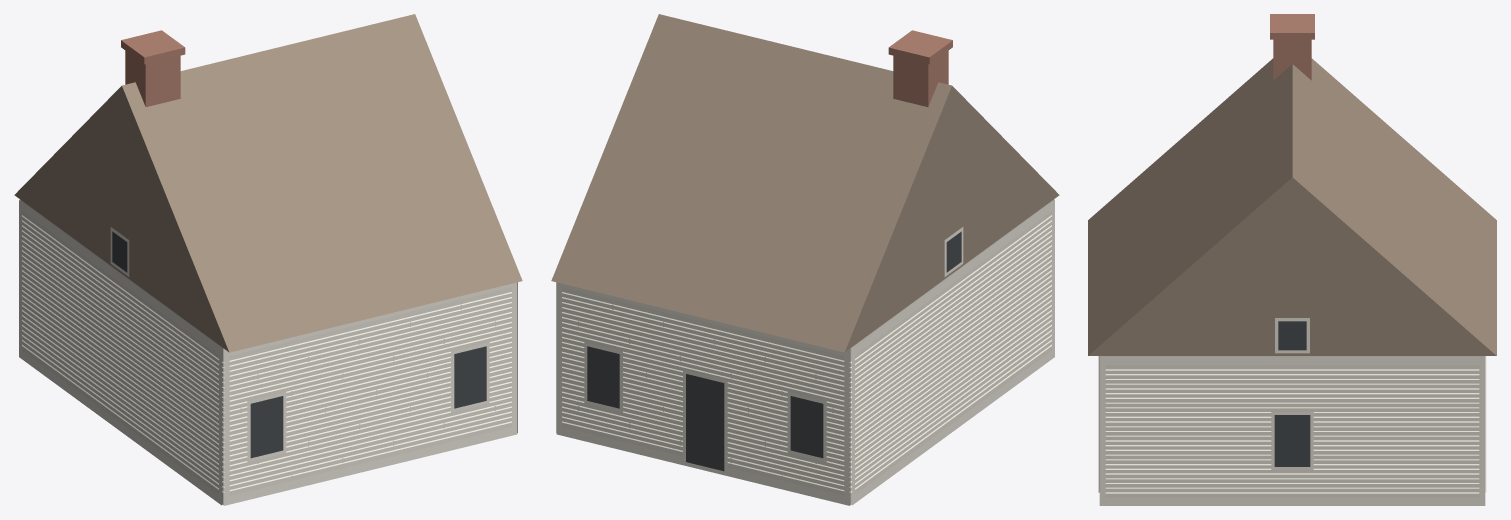
Rendered from recon_1835_south_d6_012__inferred_1835.glb.
The picture shows the model from 3 angles, left to right: view 1: azimuth 30°, elevation 25°; view 2: azimuth 150°, elevation 25°; view 3: azimuth 270°, elevation 25°; orthographic projection. The views are drawn at different scales.
Parts seen in each view (by area): view 1: recon_1835_south_d6_012__inferred_1835; view 2: recon_1835_south_d6_012__inferred_1835; view 3: recon_1835_south_d6_012__inferred_1835.
Part boxes in pixels (x1,y1,x2,y2): recon_1835_south_d6_012__inferred_1835: (14, 14, 522, 505); recon_1835_south_d6_012__inferred_1835: (551, 14, 1059, 505); recon_1835_south_d6_012__inferred_1835: (1088, 14, 1496, 505).
Bounding box in the file's own units: 7.13 × 8.69 × 8.93.
